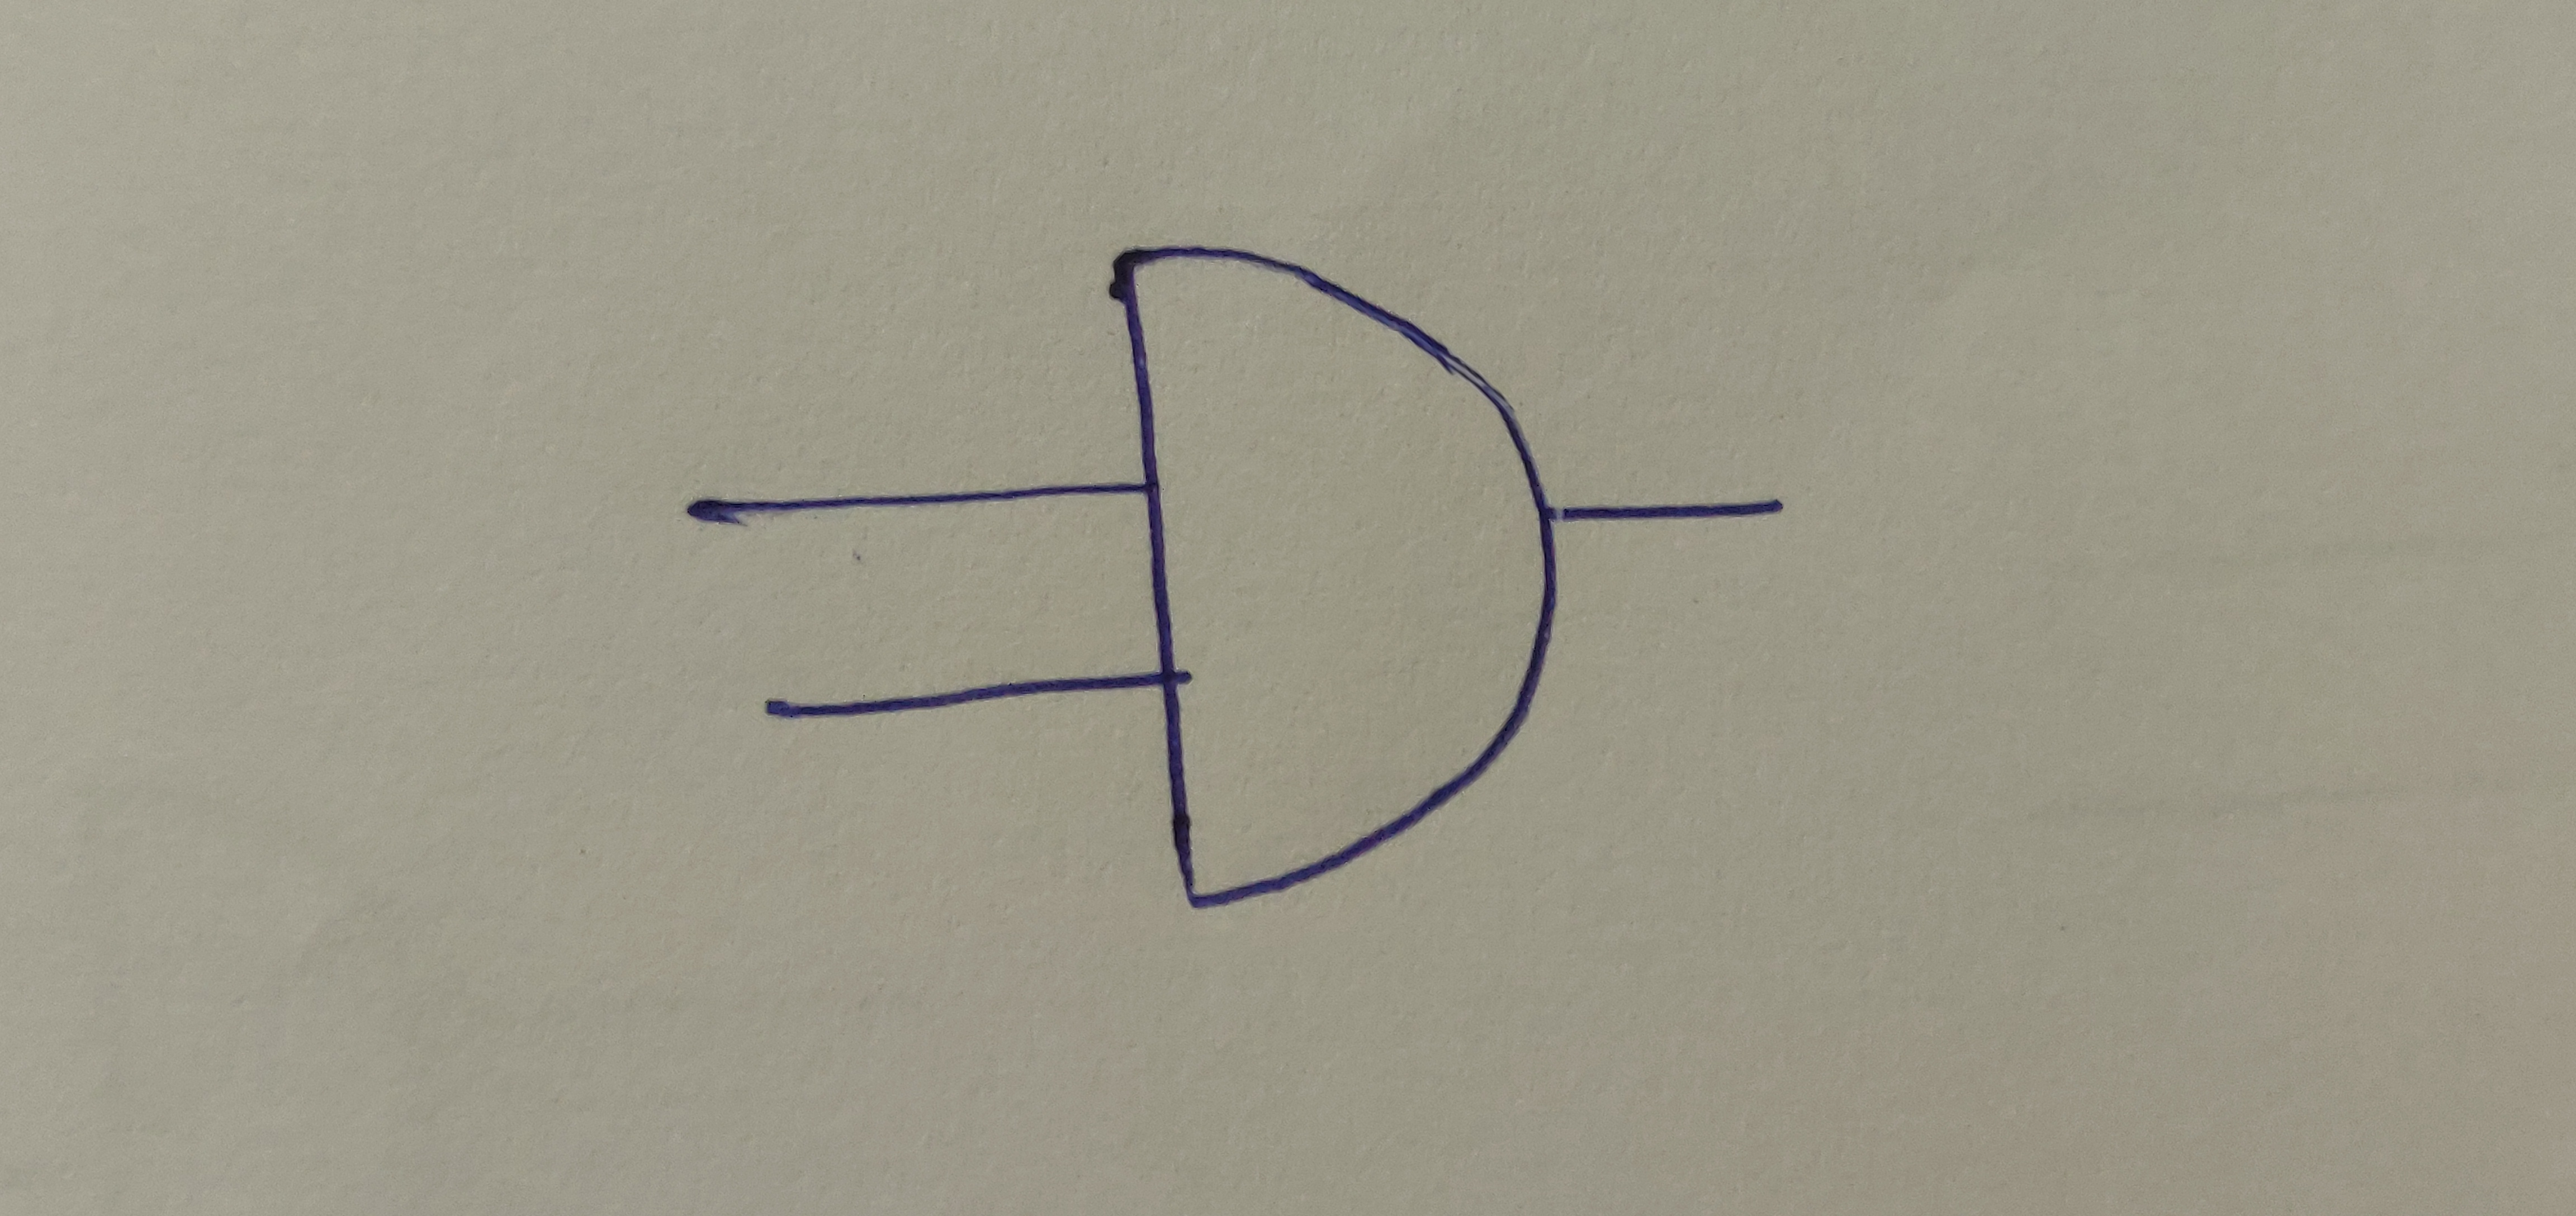and: (1109, 237, 1559, 910)
